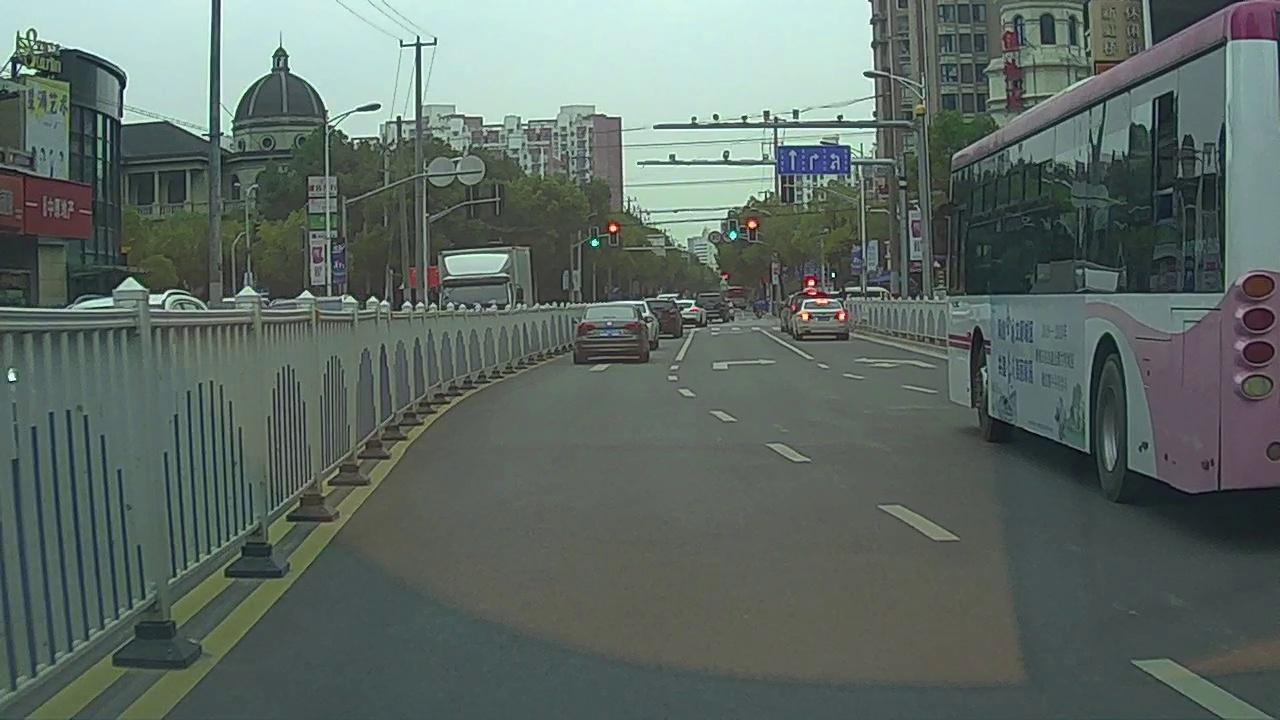traffic_light: (608, 223, 619, 245), (589, 228, 599, 249), (728, 221, 737, 243), (750, 220, 758, 239)
